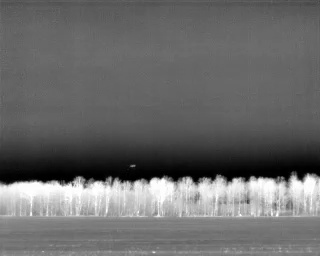DRONE: (127, 161, 139, 171)
